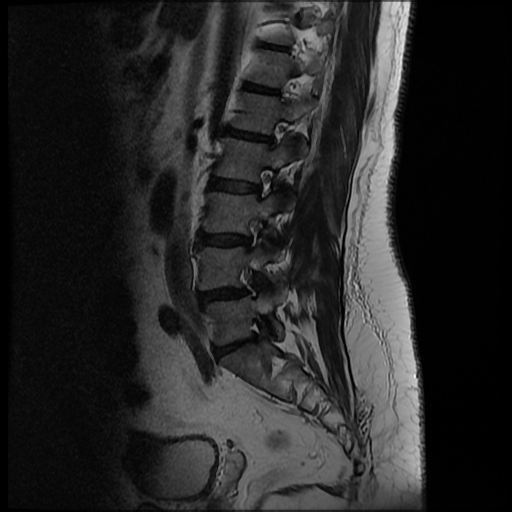RFS0: (244, 157, 282, 207), (259, 112, 295, 157)
RFS2: (229, 258, 271, 308), (233, 209, 271, 258)
